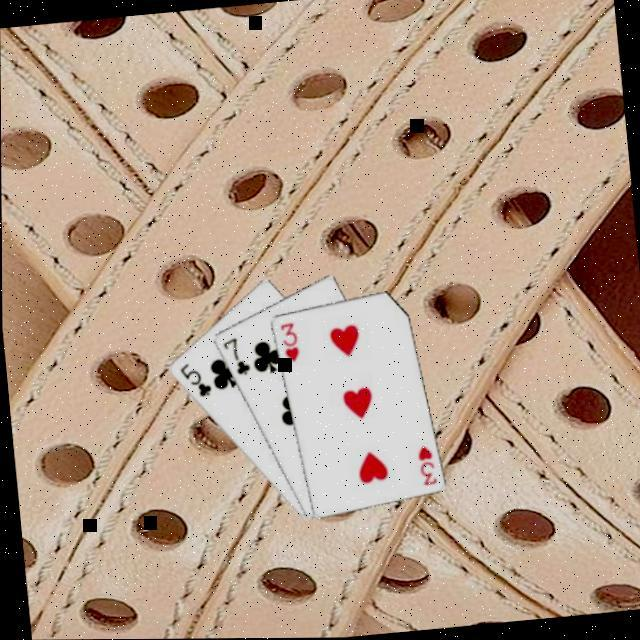3H: (413, 438, 440, 486), (276, 316, 302, 363)
5C: (176, 356, 215, 399)
7C: (220, 332, 254, 377)
